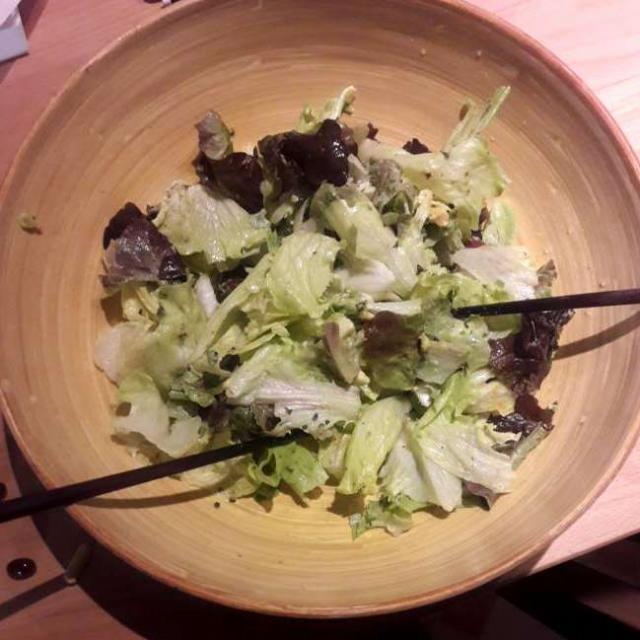salad: (100, 94, 553, 525)
